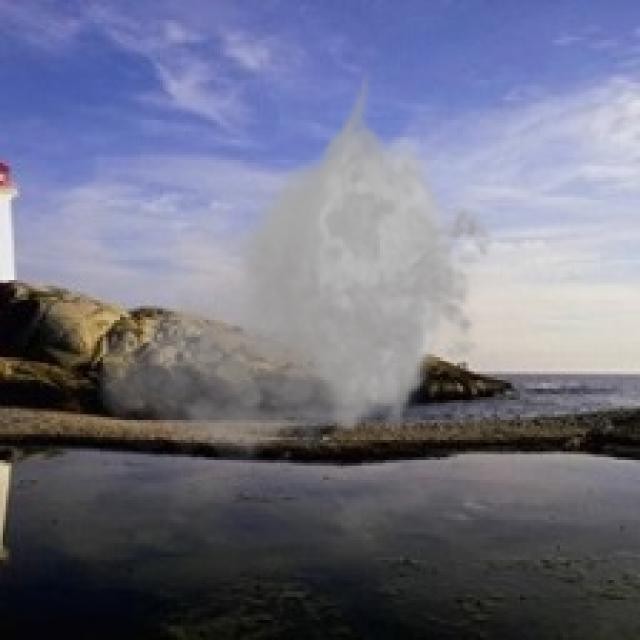smoke: (91, 66, 506, 474)
